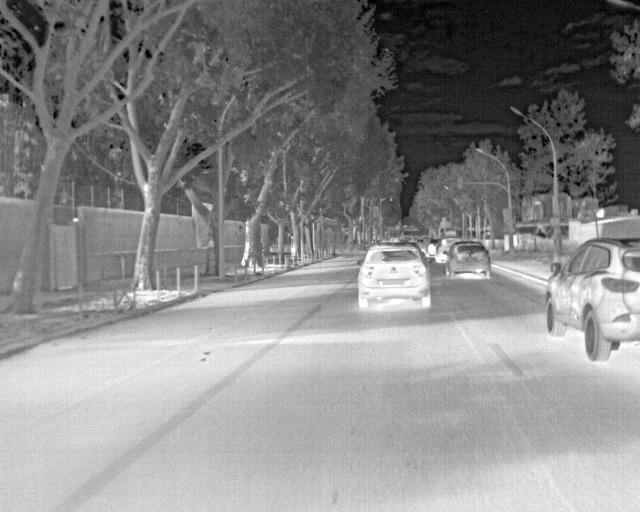car: (546, 237, 639, 362), (357, 242, 434, 308), (443, 241, 490, 279), (434, 237, 463, 263), (425, 239, 439, 257), (416, 238, 431, 251), (400, 236, 418, 244), (387, 238, 399, 243)
light: (457, 177, 463, 189)
sign: (504, 214, 512, 222), (503, 208, 511, 214)
